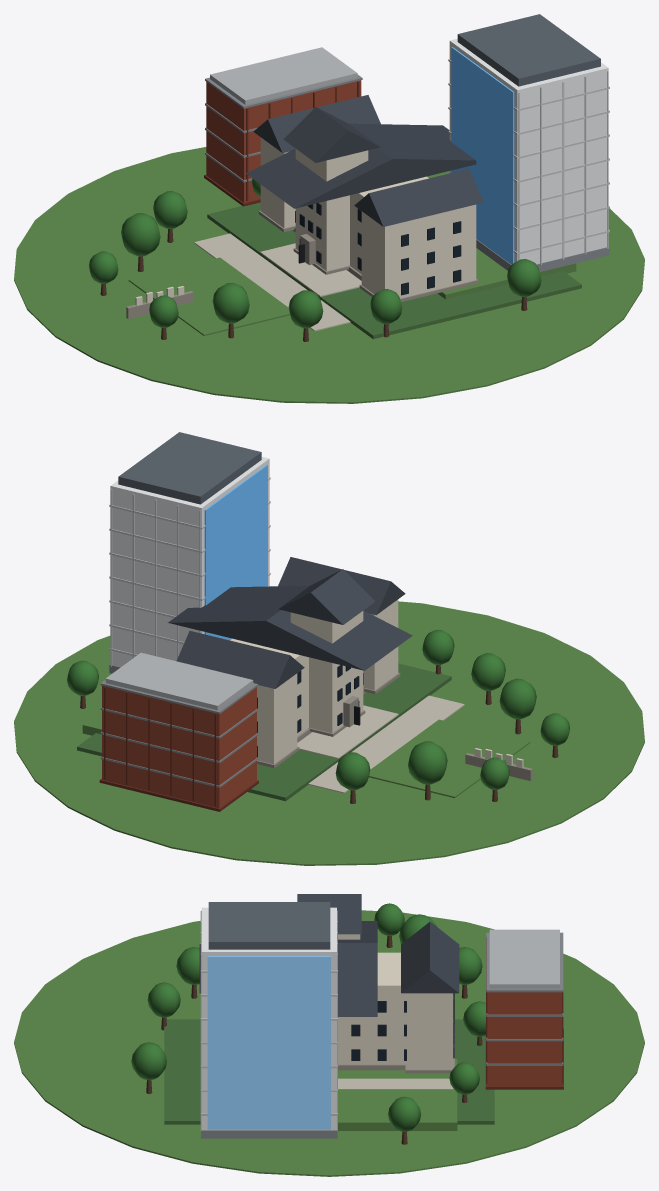
The model's file is chung-ang-univ.glb.
The picture shows the model from 3 angles, top to bottom: view 1: azimuth 30°, elevation 25°; view 2: azimuth 150°, elevation 25°; view 3: azimuth 270°, elevation 25°; orthographic projection.
Size of the model in its own units: 84 by 30 by 84.
